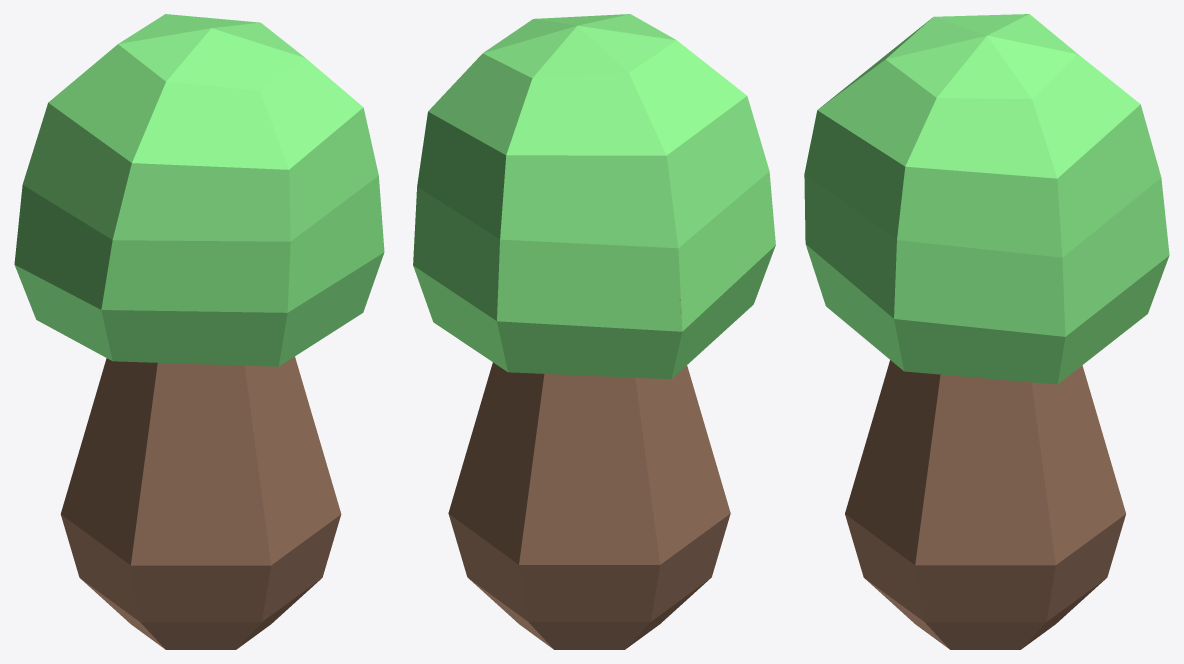
File: tinyMushroom01.gltf
3 views of the same model, side by side, from view 1: azimuth 30°, elevation 25°; view 2: azimuth 150°, elevation 25°; view 3: azimuth 270°, elevation 25° (orthographic).
Parts seen in each view (by area): view 1: Sphere, Cone; view 2: Sphere, Cone; view 3: Sphere, Cone.
Part boxes in pixels (x1=…): Sphere: x1=14, y1=14, x2=384, y2=366; Cone: x1=60, y1=356, x2=341, y2=649; Sphere: x1=413, y1=14, x2=775, y2=379; Cone: x1=448, y1=362, x2=730, y2=649; Sphere: x1=804, y1=14, x2=1169, y2=384; Cone: x1=845, y1=360, x2=1125, y2=649.
Size of the model in its own units: 0.8778 by 1.82 by 0.988.
1 material, 1 textured.
